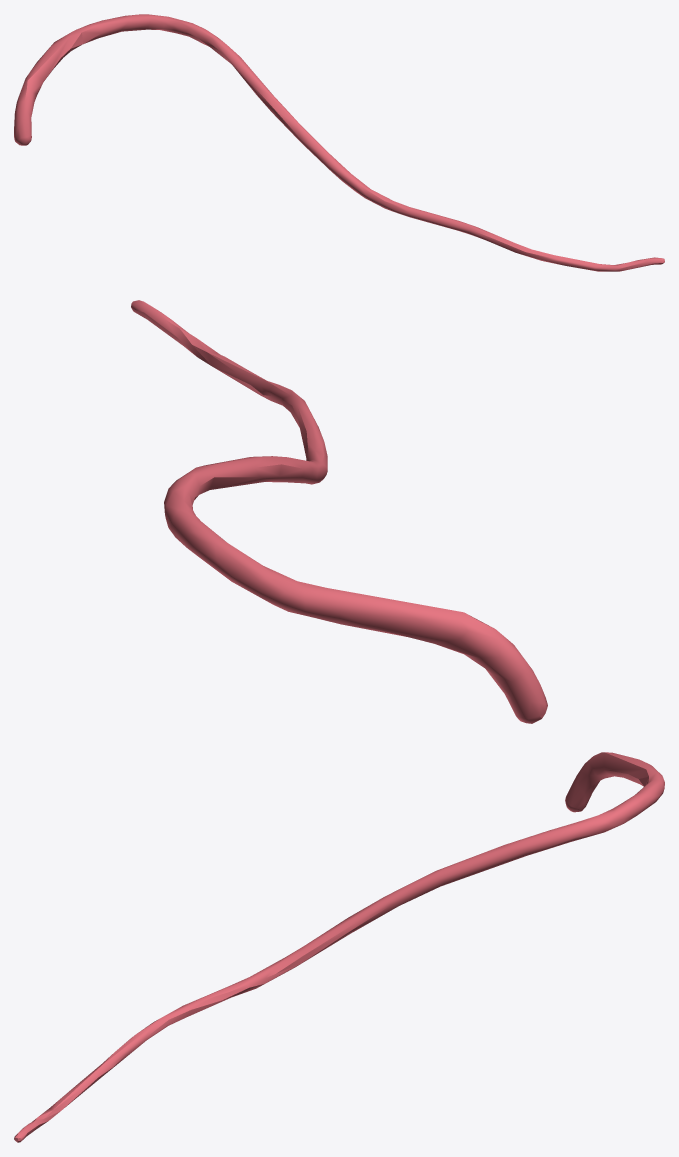
File: fma50812_fj5205.glb
3 renders of one model, top to bottom at view 1: azimuth 30°, elevation 25°; view 2: azimuth 150°, elevation 25°; view 3: azimuth 270°, elevation 25°, orthographic. The views are drawn at different scales.
Parts seen in each view (by area): view 1: FMA50812_FJ5205; view 2: FMA50812_FJ5205; view 3: FMA50812_FJ5205.
Boxes of the visible parts, left/top/right/bottom form: FMA50812_FJ5205: left=14, top=14, right=664, bottom=271; FMA50812_FJ5205: left=131, top=300, right=547, bottom=723; FMA50812_FJ5205: left=14, top=752, right=664, bottom=1142.
Bounding box in the file's own units: 0.0267 × 0.00849 × 0.0278.
